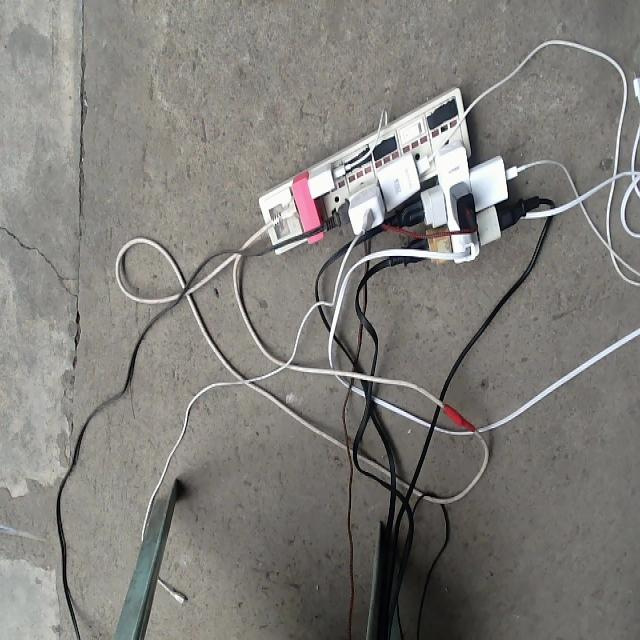-: (257, 81, 542, 264)
